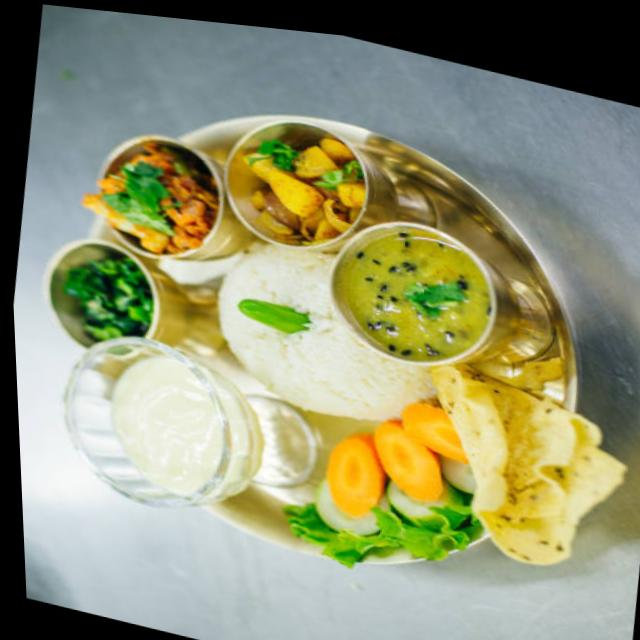CURD: (108, 353, 223, 497)
CURRY: (243, 133, 363, 245)
DAL: (339, 231, 492, 357)
PAPADAM: (427, 365, 633, 570)
RICE: (214, 241, 438, 423)
